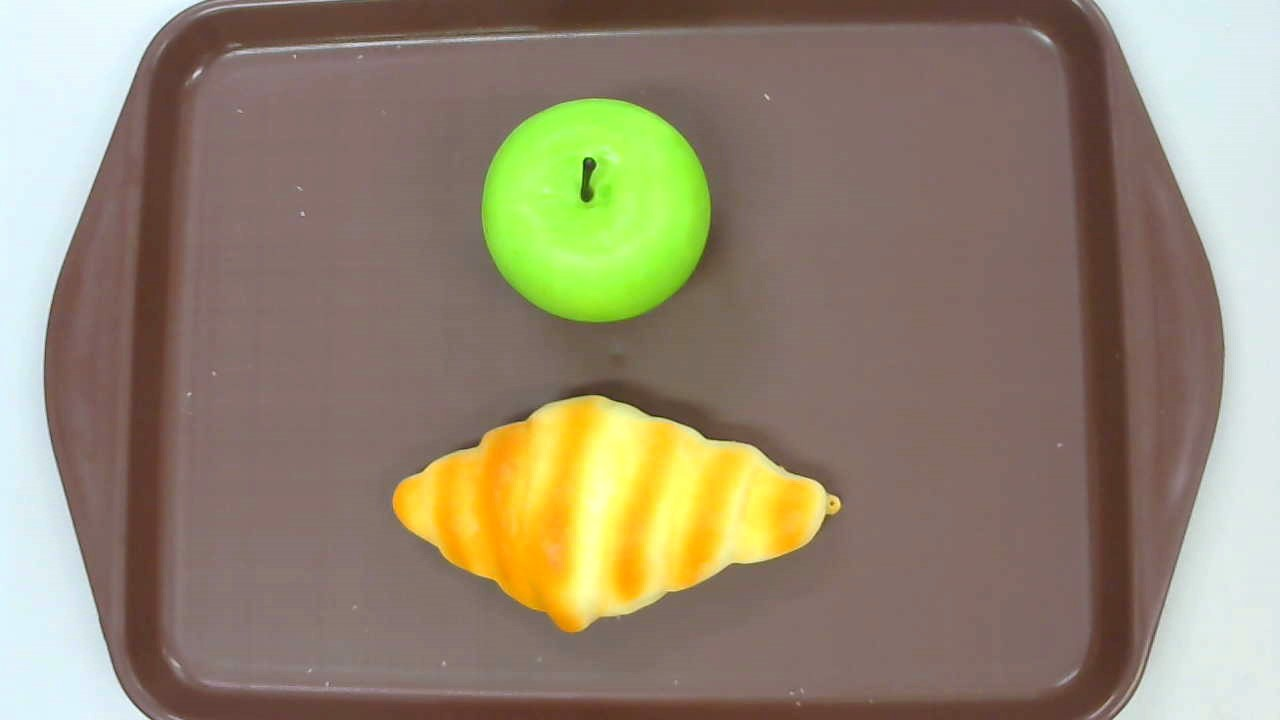croissant: (391, 394, 842, 634)
green apple: (479, 98, 712, 322)
